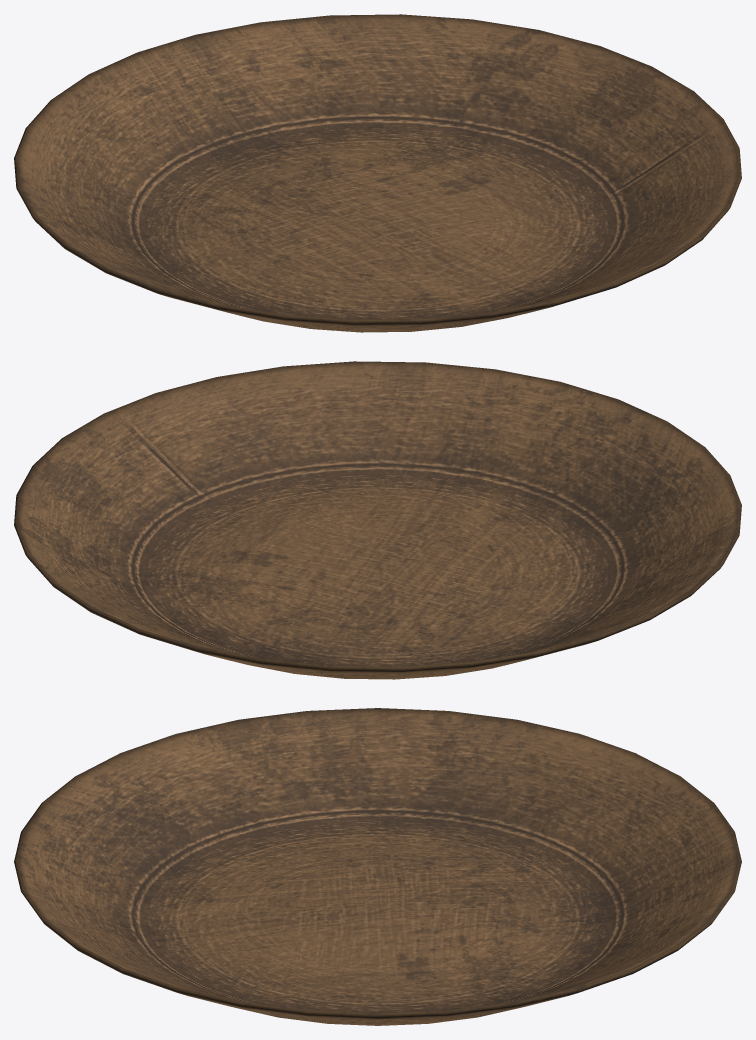
The model's file is Bowl_D.fbx.
The picture shows the model from 3 angles, top to bottom: view 1: azimuth 30°, elevation 25°; view 2: azimuth 150°, elevation 25°; view 3: azimuth 270°, elevation 25°; orthographic projection.
Visible parts, largest first — view 1: Plate_02_low; view 2: Plate_02_low; view 3: Plate_02_low.
Boxes of the visible parts, x1=… form: Plate_02_low: x1=14, y1=14, x2=741, y2=332; Plate_02_low: x1=14, y1=361, x2=741, y2=679; Plate_02_low: x1=14, y1=708, x2=741, y2=1025.
Bounding box in the file's own units: 178 × 17.62 × 178.
